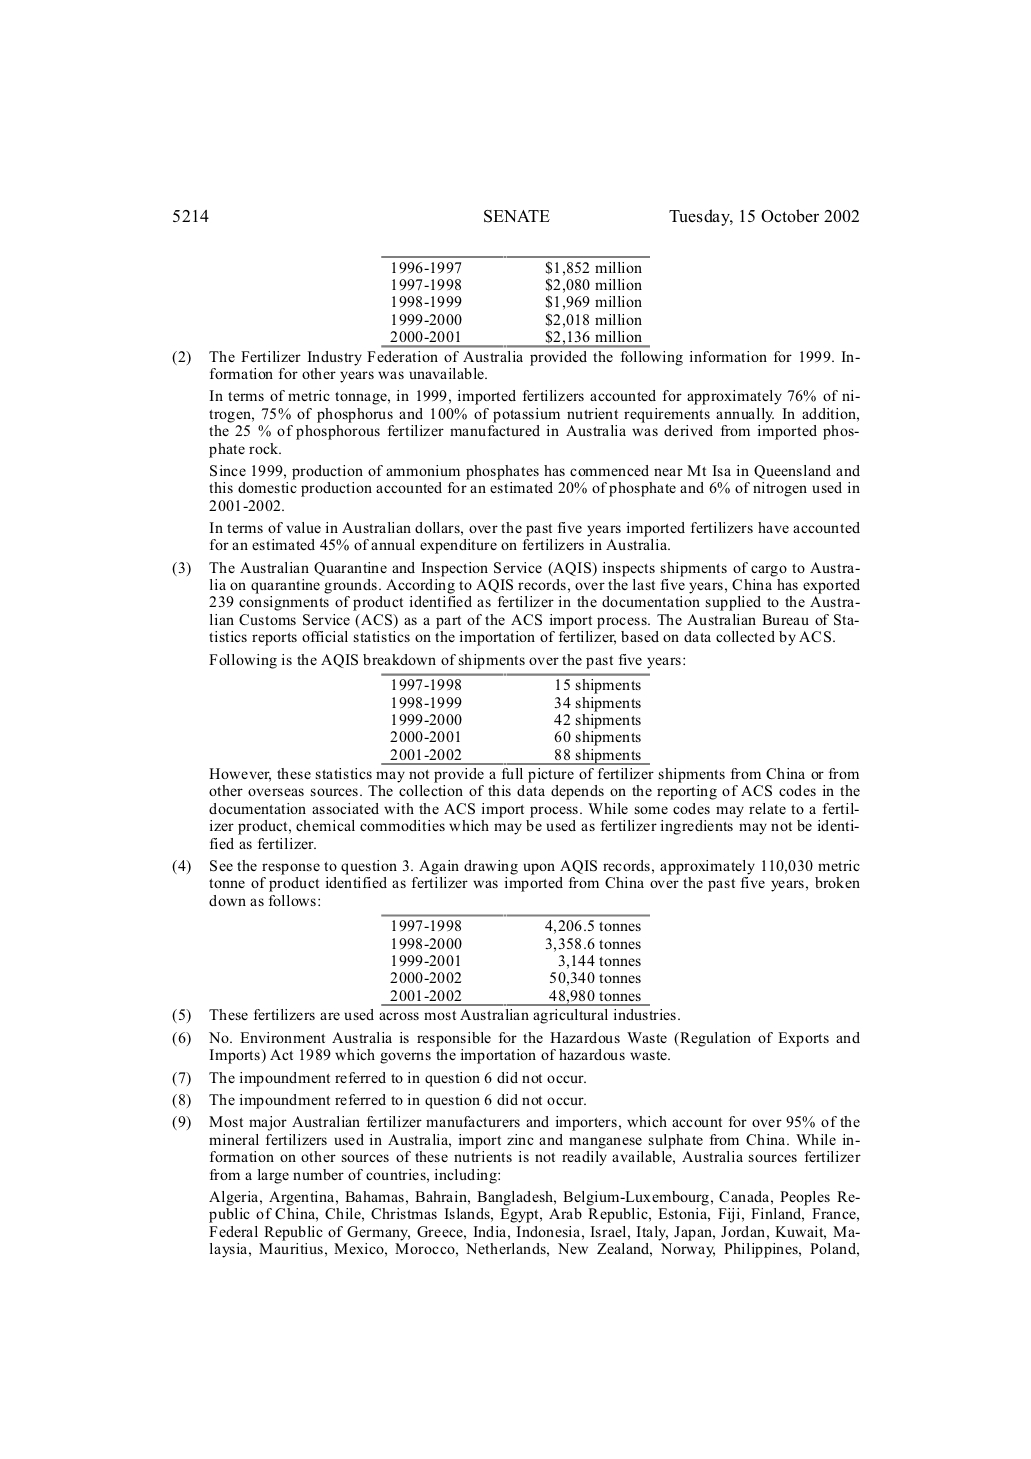Table: (380, 914, 649, 1005), (380, 673, 649, 764), (380, 257, 649, 347)
